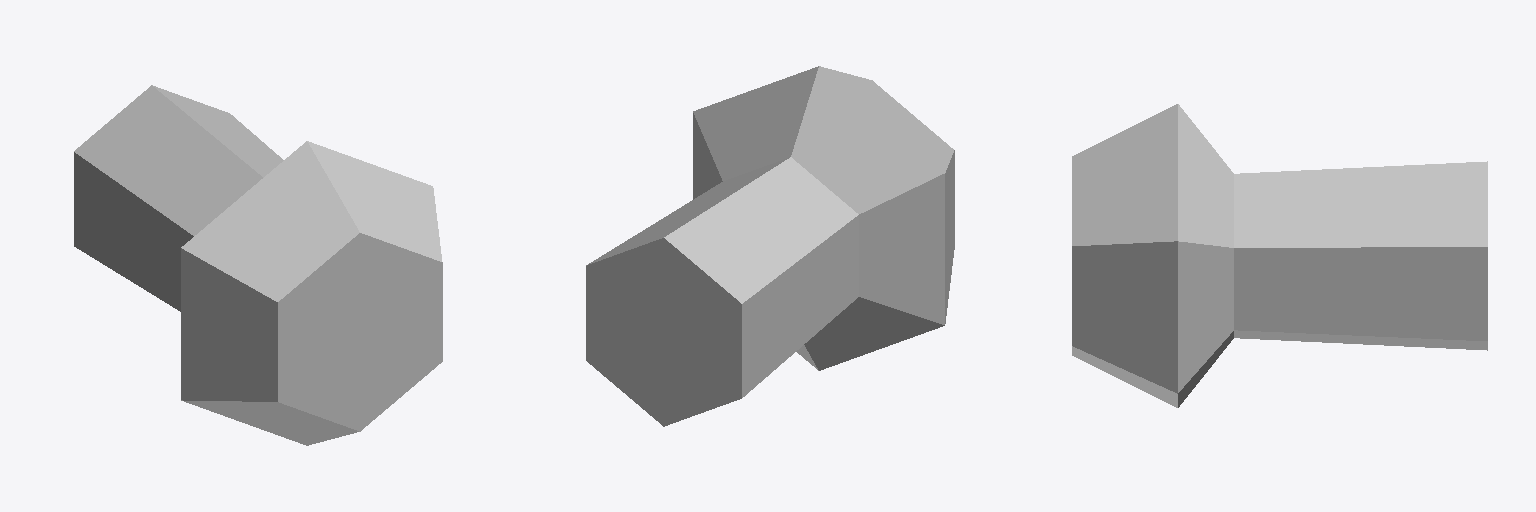
File: mushi3.obj
The picture shows the model from 3 angles: view 1: azimuth 30°, elevation 25°; view 2: azimuth 150°, elevation 25°; view 3: azimuth 270°, elevation 25°; orthographic projection.
Parts seen in each view (by area): view 1: Cylinder.002; view 2: Cylinder.002; view 3: Cylinder.002.
Part boxes in pixels (bbox=[...]): Cylinder.002: bbox=[74, 85, 442, 445]; Cylinder.002: bbox=[586, 66, 954, 426]; Cylinder.002: bbox=[1072, 104, 1487, 407].
Size of the model in its own units: 0.1072 by 0.1238 by 0.1533.